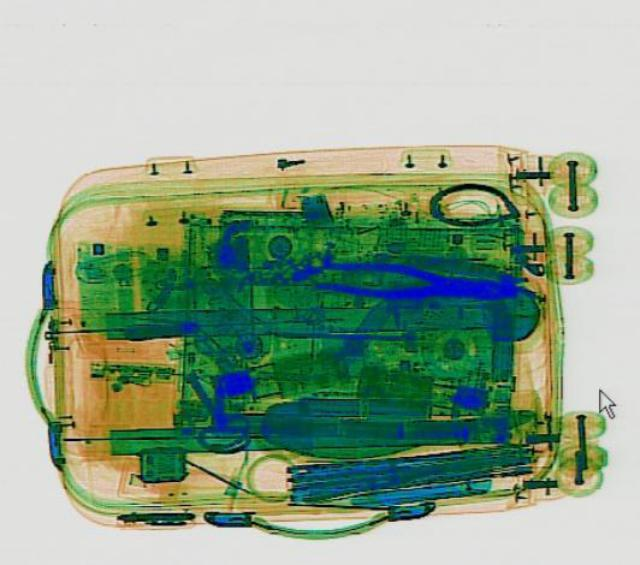Pliers: (314, 255, 516, 306)
